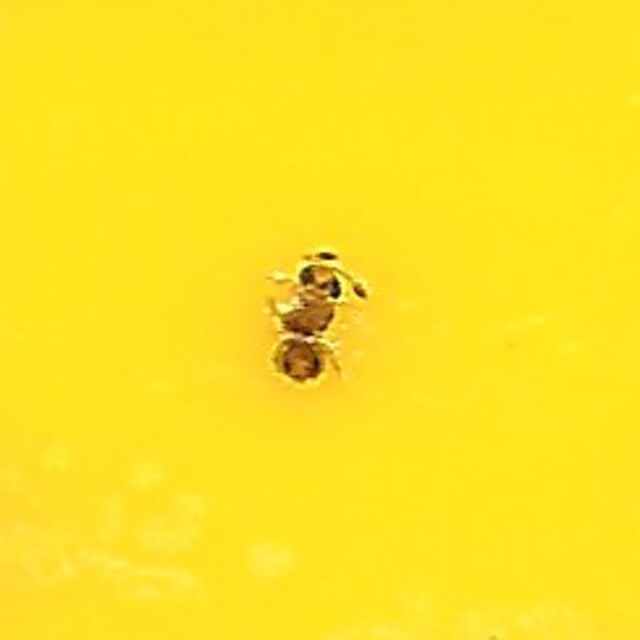Hymenoptera: (262, 245, 378, 395)
